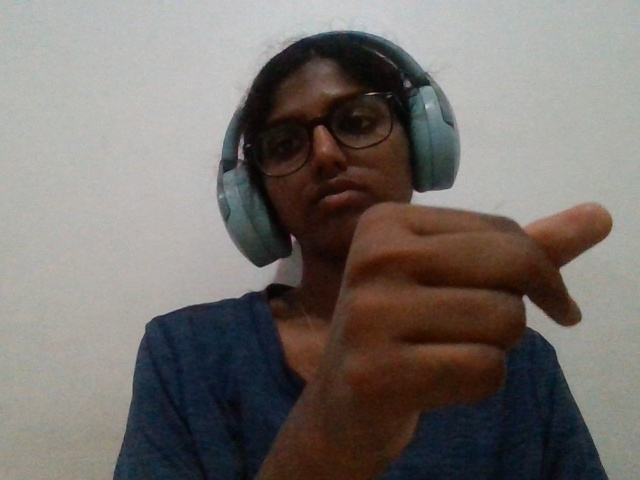G: (267, 142, 621, 467)
